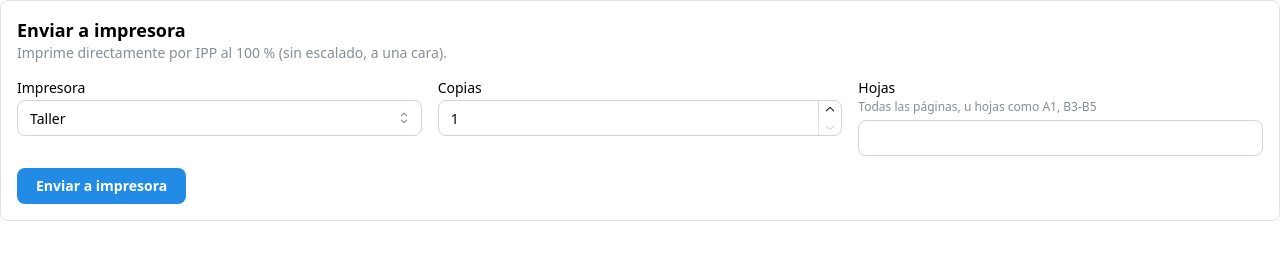
Test: PrintToPrinter › blocks unknown or unprinted sheets
Type "A1, Z9, B1" into the field labelled "Hojas".
click(1061, 138); type("A1, Z9, B1")  # box 858,120 -> 1263,156
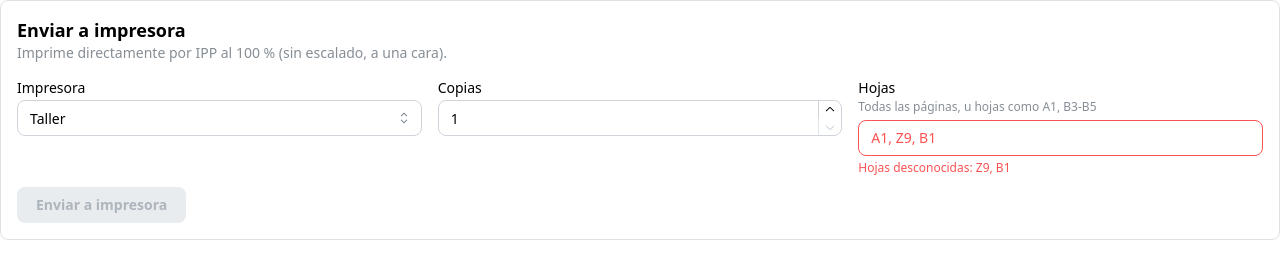
Check: the text "Hojas desconocidas: Z9, B1" is shown, box 858,159 -> 1010,176
Check: the button with test id "send-to-printer" is disabled, box 17,187 -> 186,223
